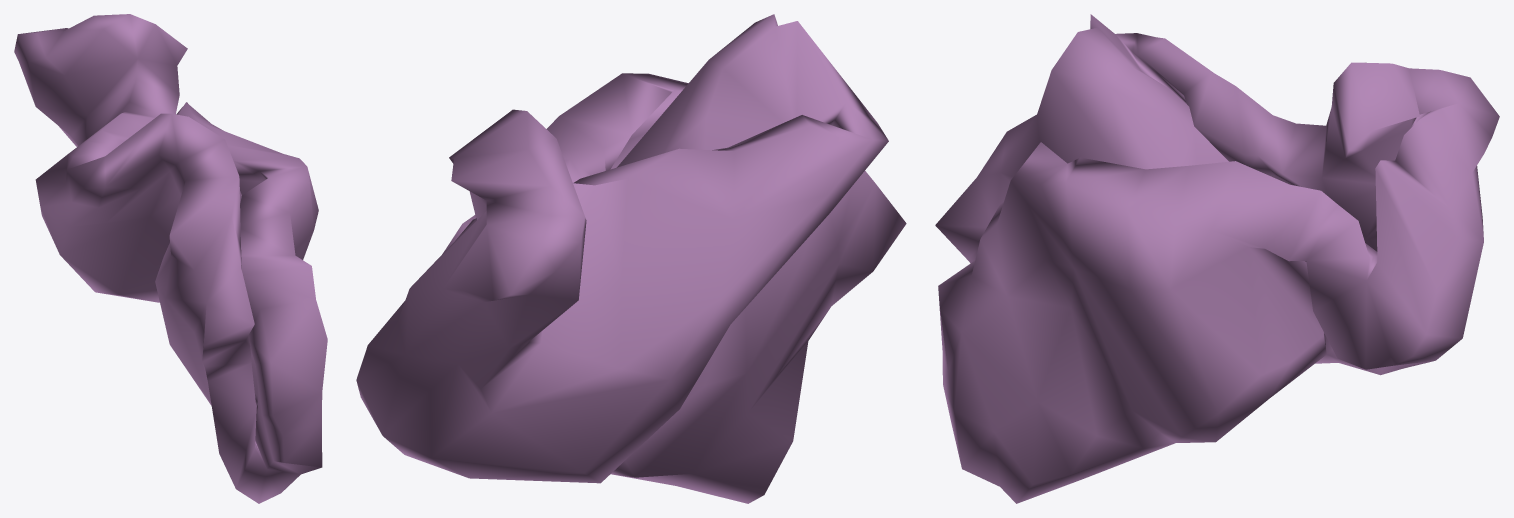
The picture shows the model from 3 angles, left to right: view 1: azimuth 30°, elevation 25°; view 2: azimuth 150°, elevation 25°; view 3: azimuth 270°, elevation 25°; orthographic projection. The views are drawn at different scales.
Parts seen in each view (by area): view 1: 左侧枕横沟; view 2: 左侧枕横沟; view 3: 左侧枕横沟.
Boxes of the visible parts, x1,y1,x2,y2 form: 左侧枕横沟: [14, 14, 327, 503]; 左侧枕横沟: [356, 14, 906, 503]; 左侧枕横沟: [935, 14, 1499, 503].
Bounding box in the file's own units: 0.0254 × 0.0371 × 0.0425.
